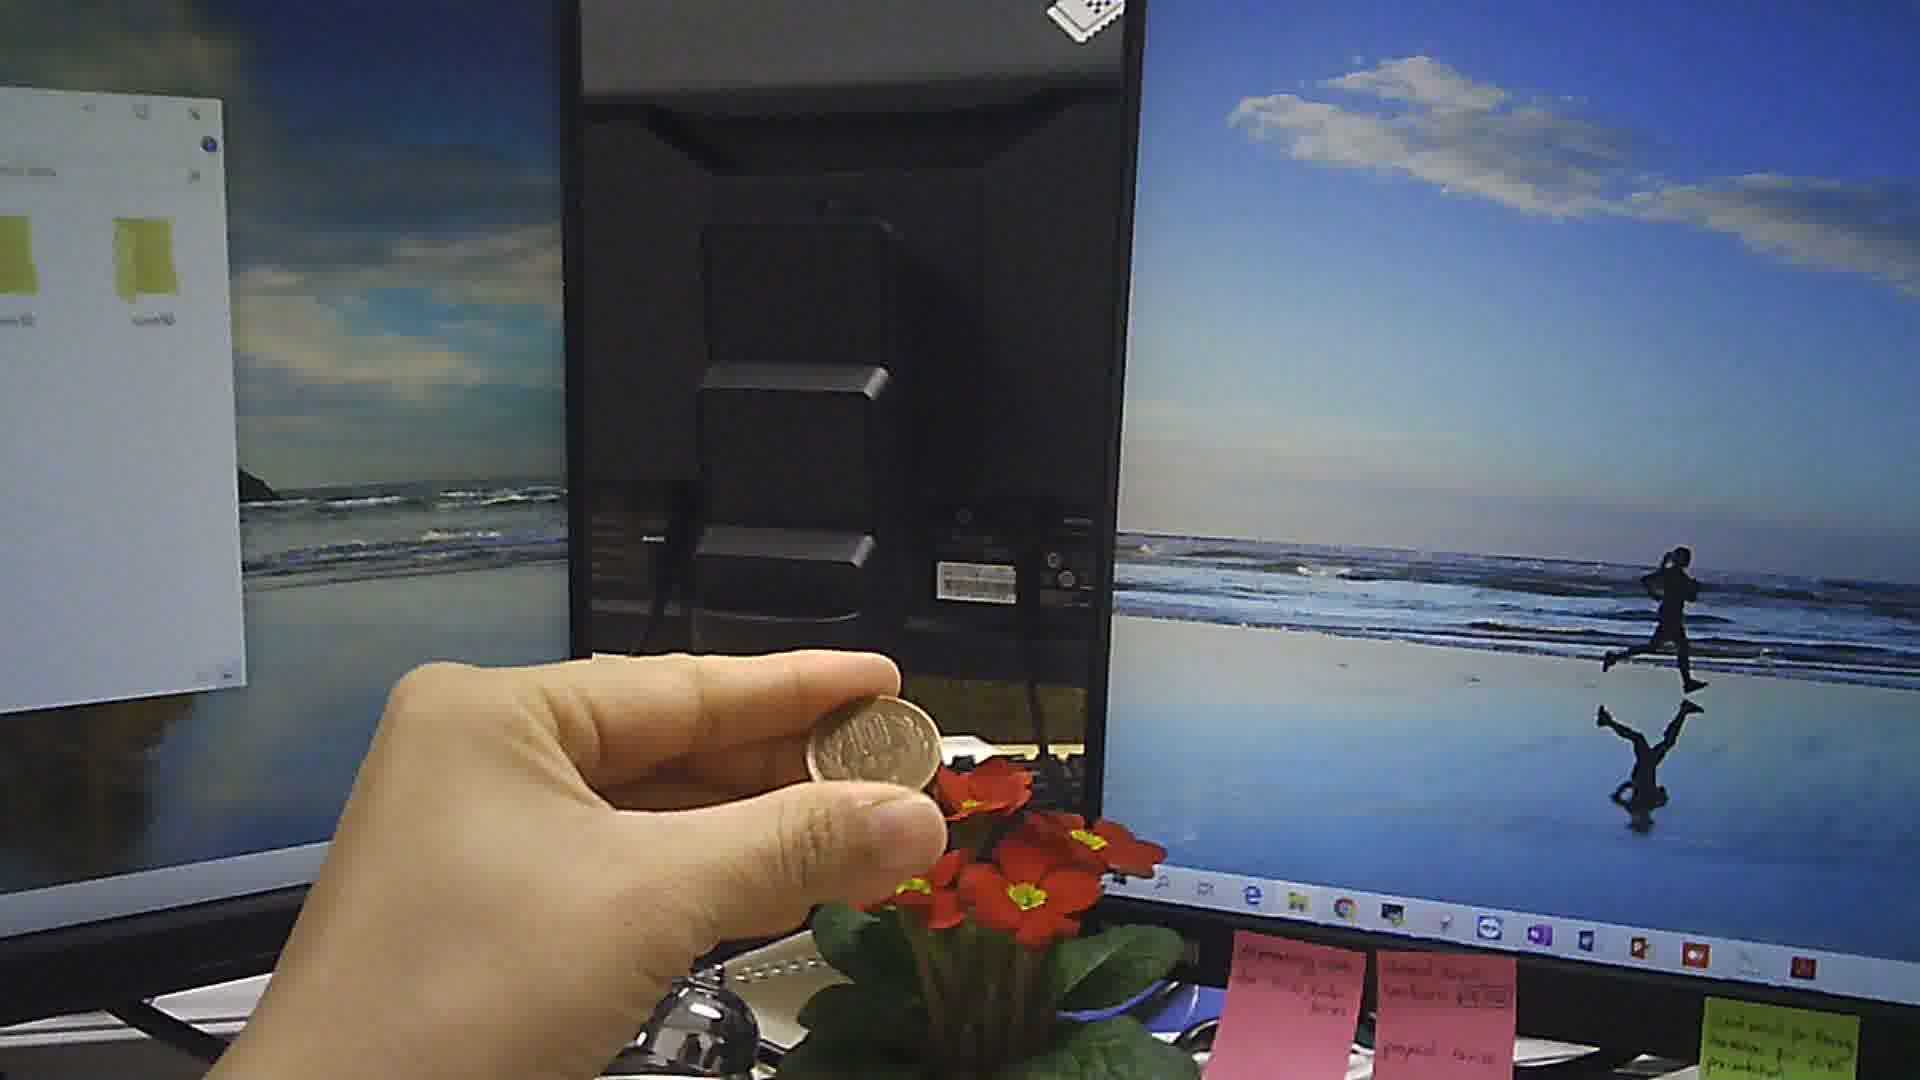10 Yen: (796, 687, 943, 808)
